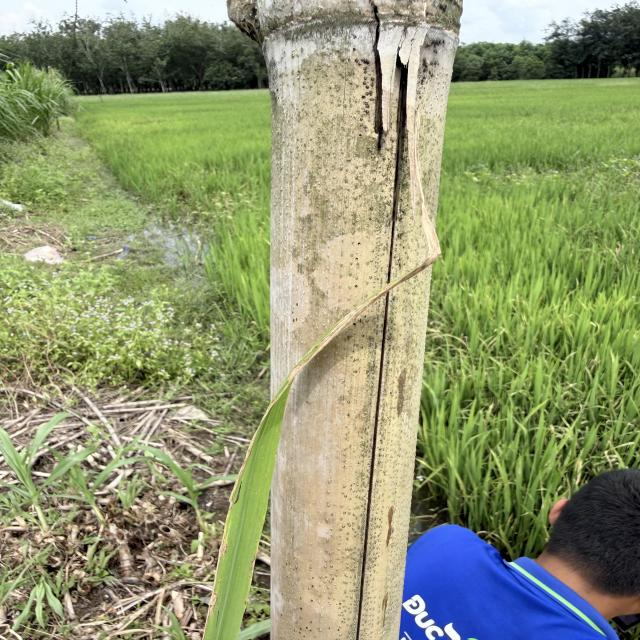Chay bia la: (264, 203, 445, 424)
